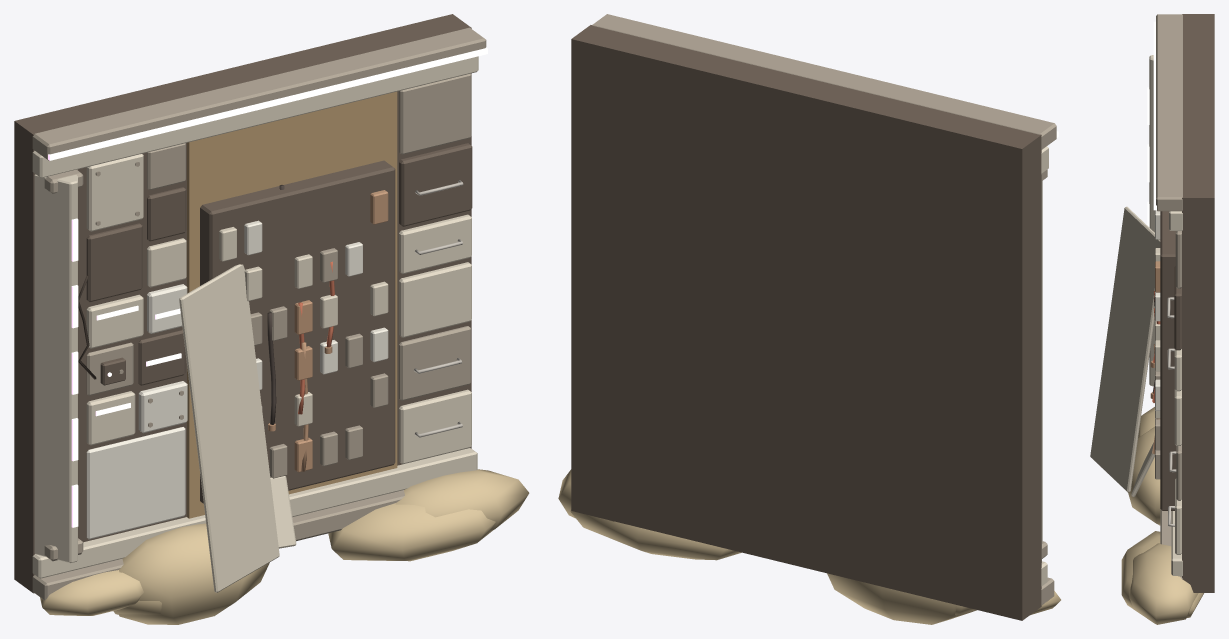
Rendered from wall_du_works.glb.
The picture shows the model from 3 angles, left to right: view 1: azimuth 30°, elevation 25°; view 2: azimuth 150°, elevation 25°; view 3: azimuth 270°, elevation 25°; orthographic projection. The views are drawn at different scales.
Visible parts, largest first — view 1: wall_du_works; view 2: wall_du_works; view 3: wall_du_works.
Boxes of the visible parts, x1,y1,x2,y2 form: wall_du_works: (14,14,529,624); wall_du_works: (558,14,1060,624); wall_du_works: (1090,14,1214,624).
Bounding box in the file's own units: 4.44 × 4.46 × 1.14.
